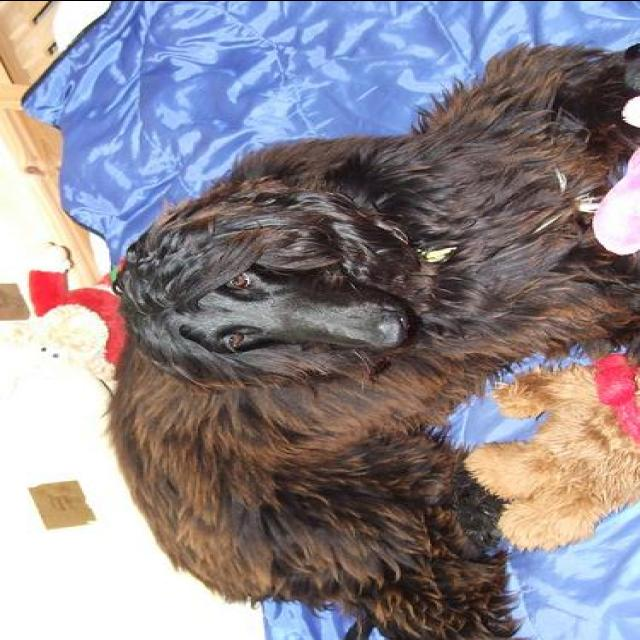afghan_hound: (101, 41, 638, 639)
